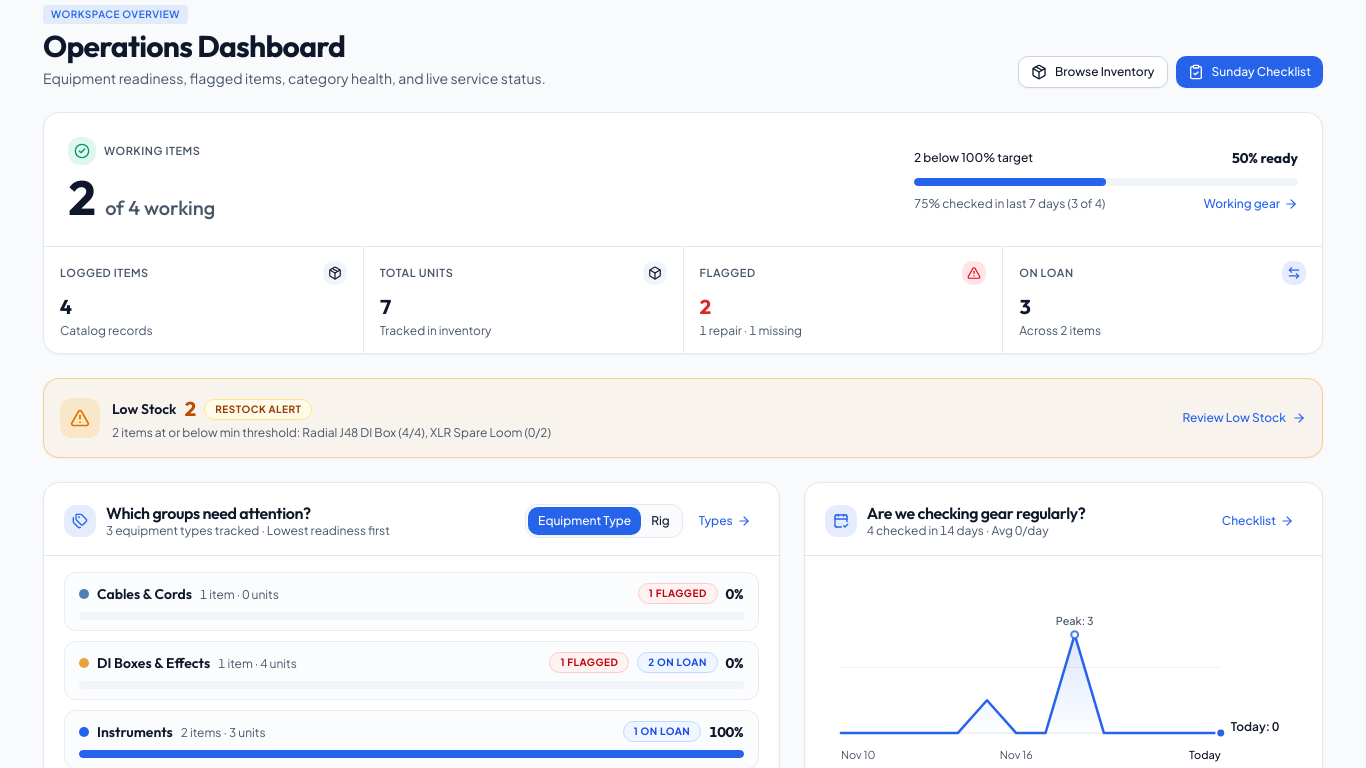
Test: DashboardPage › renders KPI summary (with qty = 0 and anonymous On Loan units), Low Stock callout, Needs Attention, and Equipment Type / Rig Health breakdown for Guests without
Expected: the heading "Operations Dashboard" is shown, left=43, top=27, right=345, bottom=65
Expected: the text "4" is shown, left=60, top=293, right=71, bottom=321
Toggling to Rig switches breakdown to Rig Categories
Click the button "Rig" at (660, 521), box left=641, top=507, right=680, bottom=535
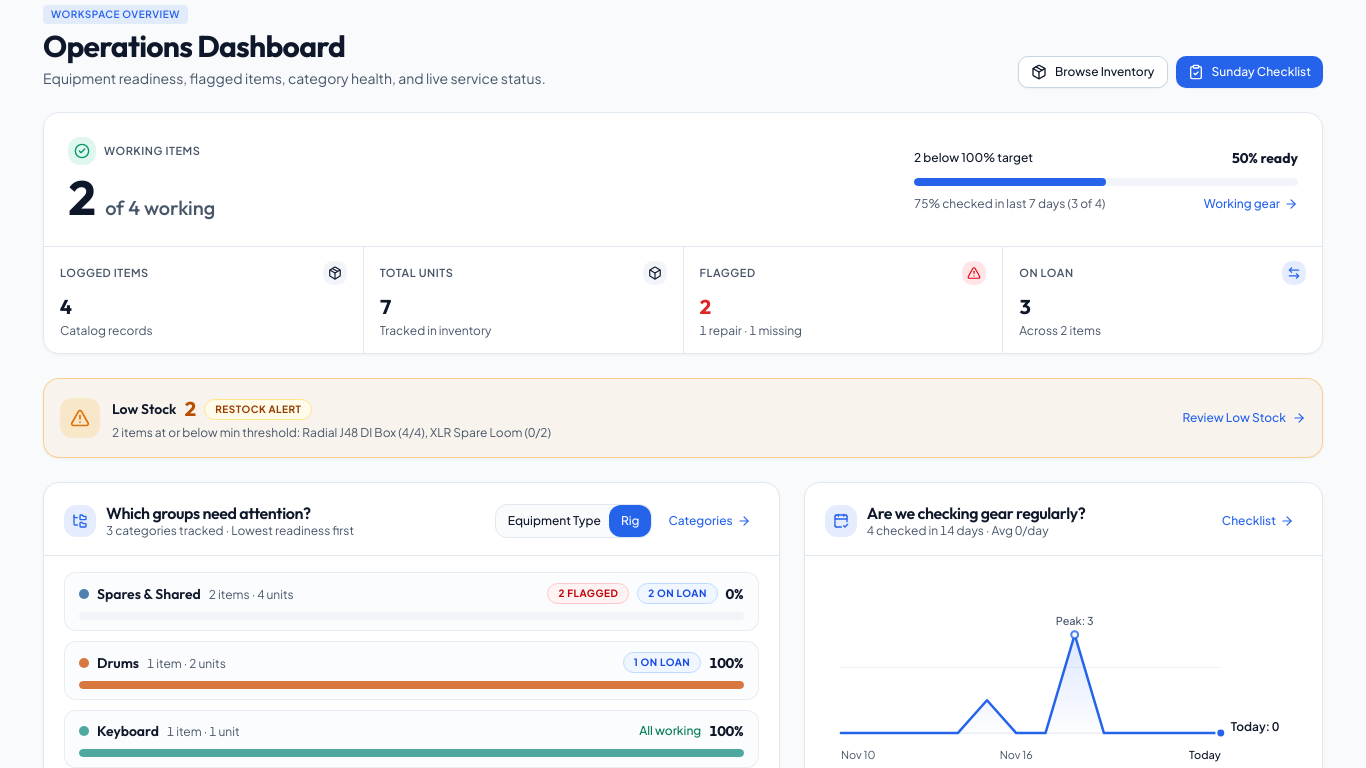
Expected: the text "Drums" is shown, left=97, top=652, right=139, bottom=672
Expected: the text "Spares & Shared" is shown, left=97, top=584, right=201, bottom=604
Expected: the text "Keyboard" is shown, left=97, top=721, right=159, bottom=741
